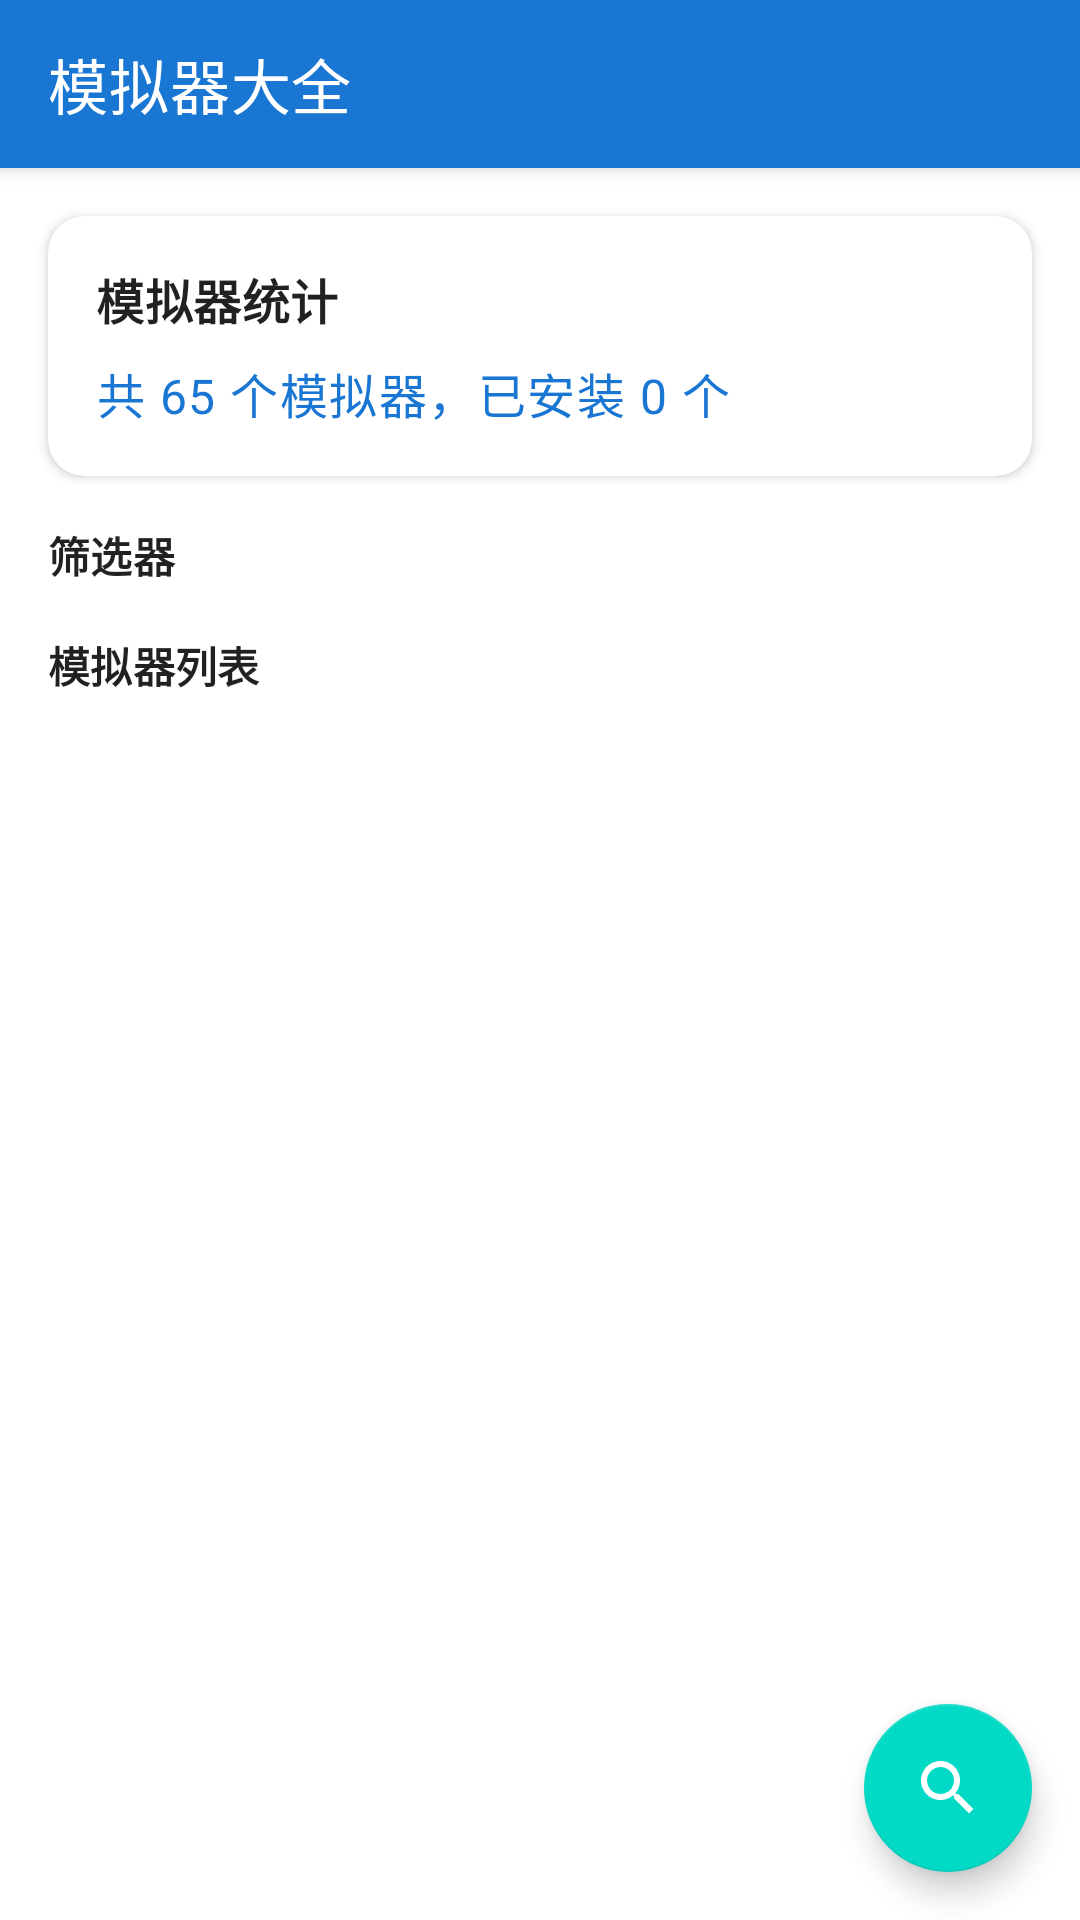

Screen size 1080×1920. Icon name, then its box in pixels as (x1, y1, x2, y2):
搜索模拟器: (864, 1704, 1032, 1872)
